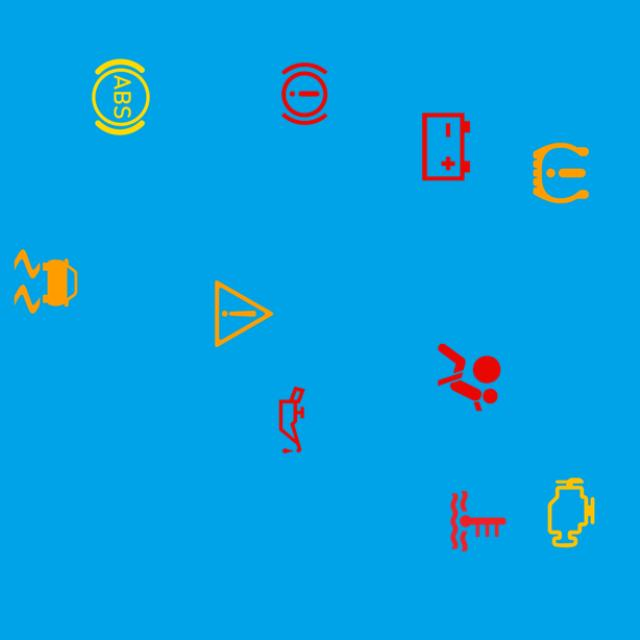Anti Lock Braking System: (79, 55, 163, 139)
Braking System Issue: (262, 52, 346, 136)
Charging System Issue: (404, 105, 488, 189)
Check Engine: (529, 471, 613, 555)
Electronic Stability Problem -ESP-: (4, 240, 88, 324)
Engine Overheating Warning Light: (436, 479, 520, 563)
Low Engine Oil Warning Light: (250, 378, 334, 462)
Low Tire Pressure Warning Light: (519, 131, 603, 215)
Master warning light: (202, 272, 286, 356)
SRS-Airbag: (427, 336, 511, 420)
